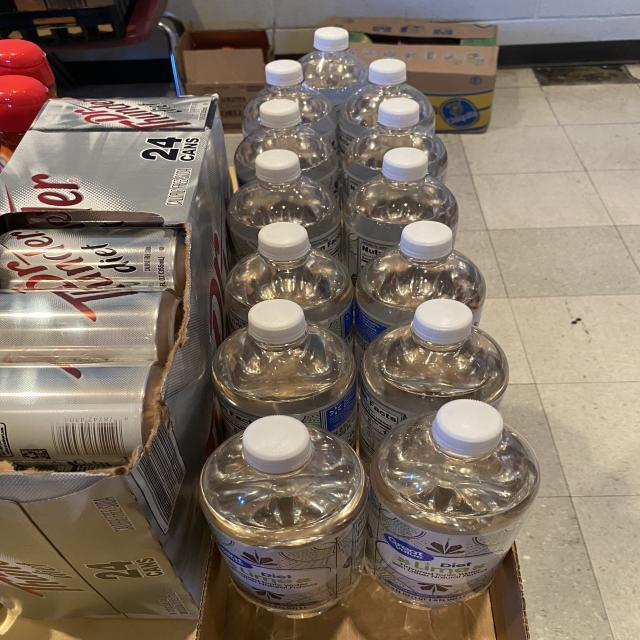Soda: (0, 362, 152, 464), (0, 290, 180, 364), (0, 228, 187, 294)
Water: (367, 399, 540, 609), (202, 415, 367, 619), (360, 299, 508, 464), (212, 299, 357, 445), (355, 221, 485, 355), (225, 221, 353, 344), (343, 148, 458, 281), (227, 150, 342, 260), (343, 98, 447, 198), (235, 99, 338, 194), (338, 59, 435, 155), (242, 60, 337, 146), (298, 26, 368, 115), (408, 199, 412, 201)
